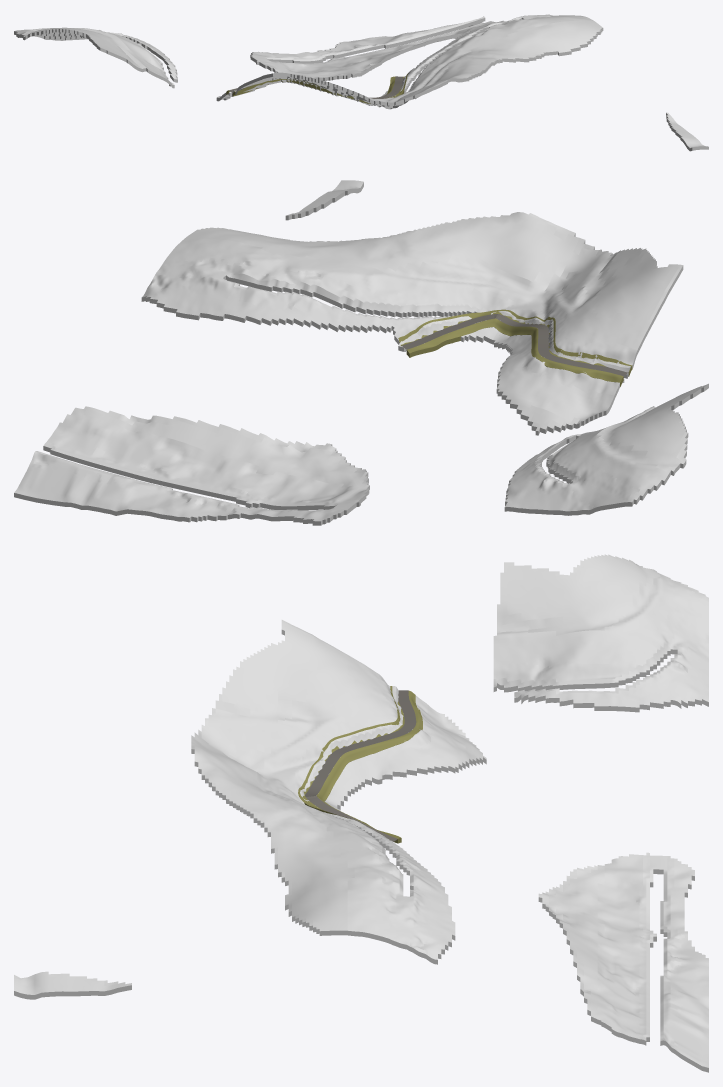
Rendered from conz_113.glb.
The picture shows the model from 3 angles, top to bottom: view 1: azimuth 30°, elevation 25°; view 2: azimuth 150°, elevation 25°; view 3: azimuth 270°, elevation 25°; orthographic projection. The views are drawn at different scales.
Parts seen in each view (by area): view 1: terrain113, verge113R, road113; view 2: terrain113, verge113L, road113, verge113R; view 3: terrain113, road113, verge113L, verge113R.
Boxes of the visible parts, x1,y1,x2,y2 form: terrain113: (14,14,708,151); verge113R: (232,73,408,103); road113: (229,76,403,98); terrain113: (14,180,708,525); verge113L: (406,318,623,386); road113: (402,314,628,375); verge113R: (398,309,632,376); terrain113: (14,554,708,1072); road113: (305,690,416,841); verge113L: (316,690,422,843); verge113R: (298,686,404,824).
Size of the model in its own units: 450 by 134 by 400.
